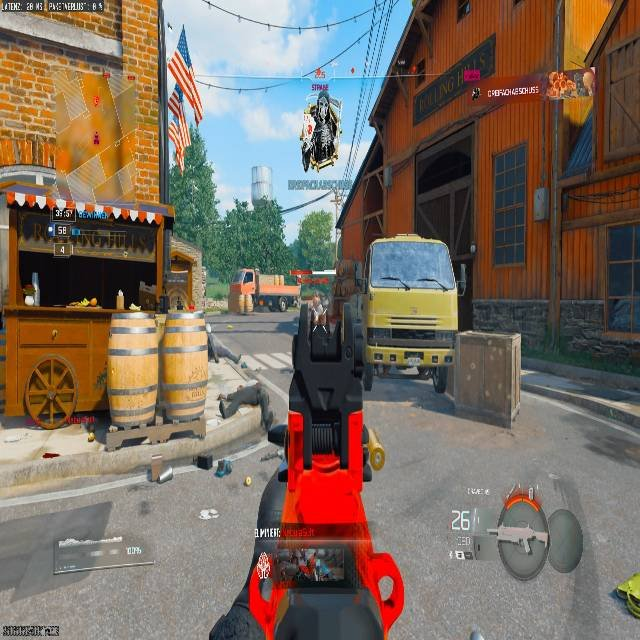player: (303, 86, 341, 169), (309, 293, 323, 325)
